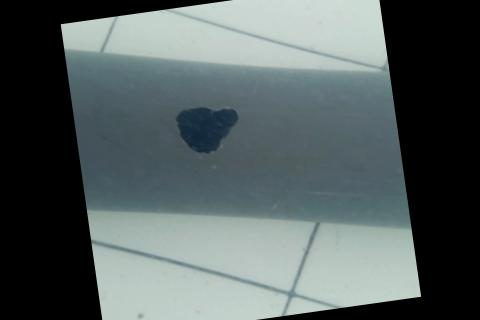kebocoran: (170, 98, 245, 159)
